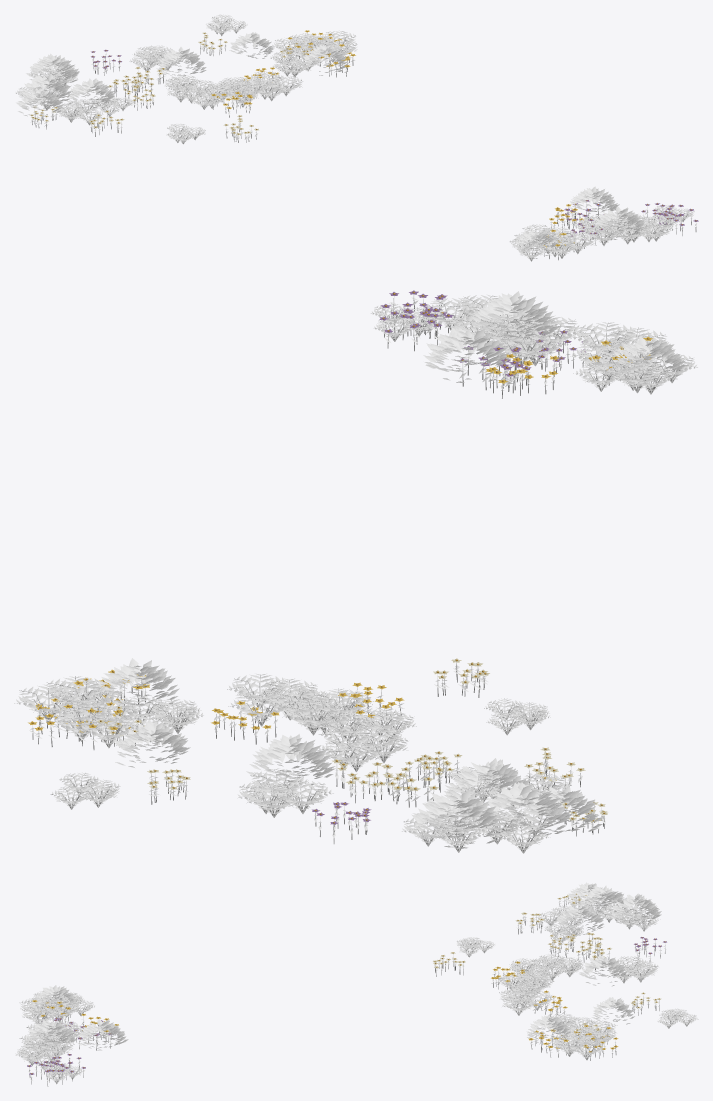
The model's file is SM_DF_Explorer_1_3_Flora.fbx.
The picture shows the model from 3 angles, top to bottom: view 1: azimuth 30°, elevation 25°; view 2: azimuth 150°, elevation 25°; view 3: azimuth 270°, elevation 25°; orthographic projection. The views are drawn at different scales.
Parts seen in each view (by area): view 1: SM_DF_Explorer_1_3_Flora; view 2: SM_DF_Explorer_1_3_Flora; view 3: SM_DF_Explorer_1_3_Flora.
Boxes of the visible parts, x1,y1,x2,y2 form: SM_DF_Explorer_1_3_Flora: (15, 14, 698, 261); SM_DF_Explorer_1_3_Flora: (14, 290, 697, 853); SM_DF_Explorer_1_3_Flora: (15, 882, 698, 1086).
Bounding box in the file's own units: 1867 × 2812 × 189.
